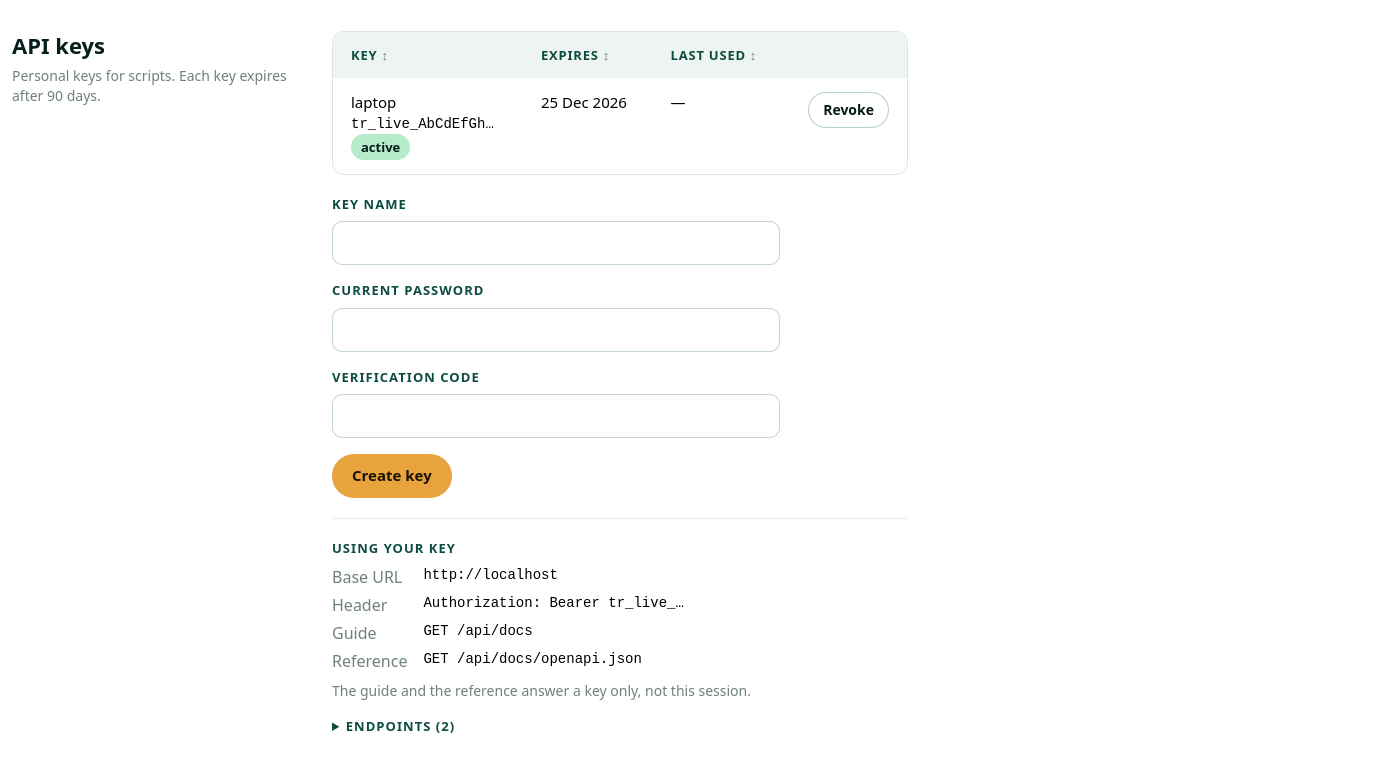
Test: RFC-82 R7 ApiKeysSection › R22 shows how to use a key and lists the endpoints, grouped and filterable
Expected: the text "Authorization: Bearer tr_live_…" is shown, [423,595,684,611]
Expected: the text "http://localhost" is shown, [423,567,558,583]
Step 1. Click the heading "Endpoints (2)" → [401, 726], box [346,717,455,735]
(page scrolled)
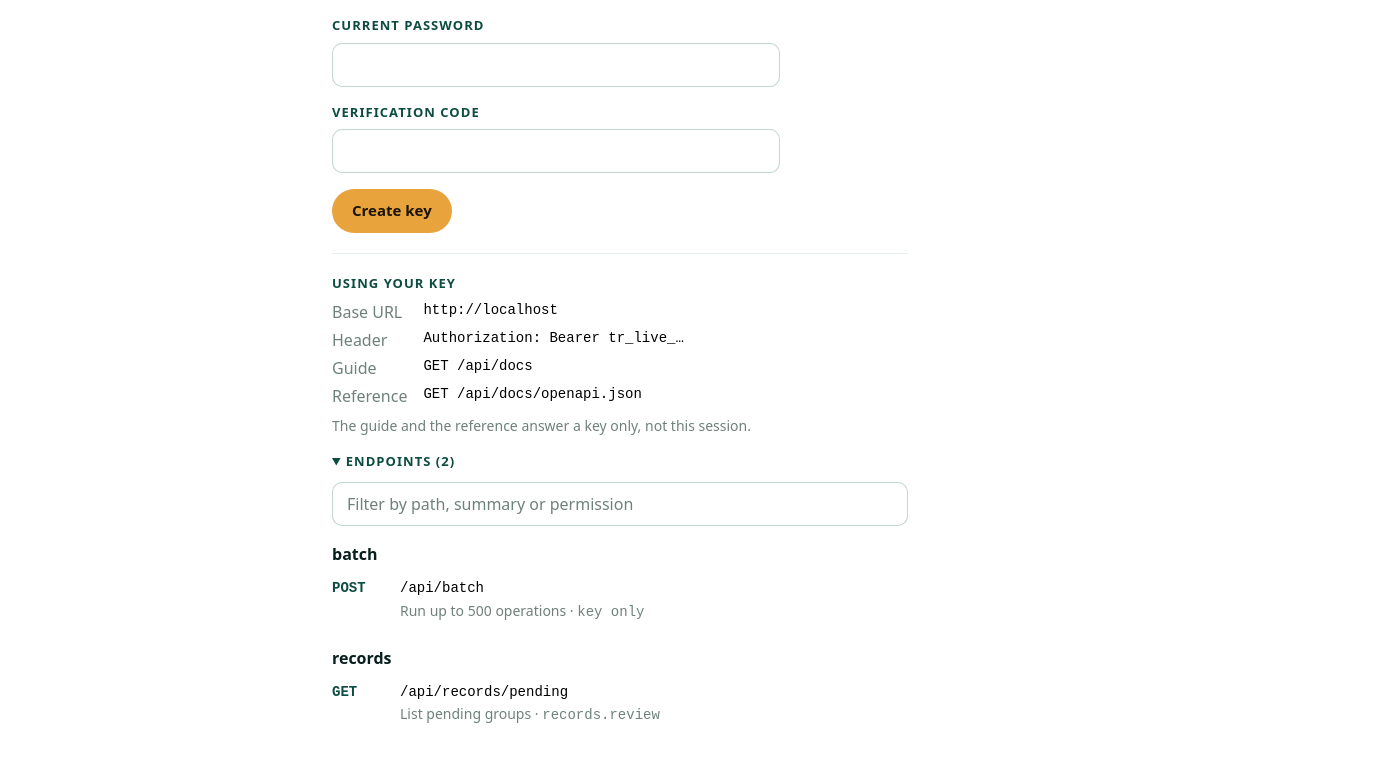
Expected: the heading "batch" is shown, [332,544,378,566]
Expected: the heading "records" is shown, [332,647,392,669]
Expected: the text "/api/records/pending" is shown, [400,682,568,702]
Step 2. Type "pending" into the field named "Filter endpoints" → [620, 504], box [332,482,908,526]
(page scrolled)
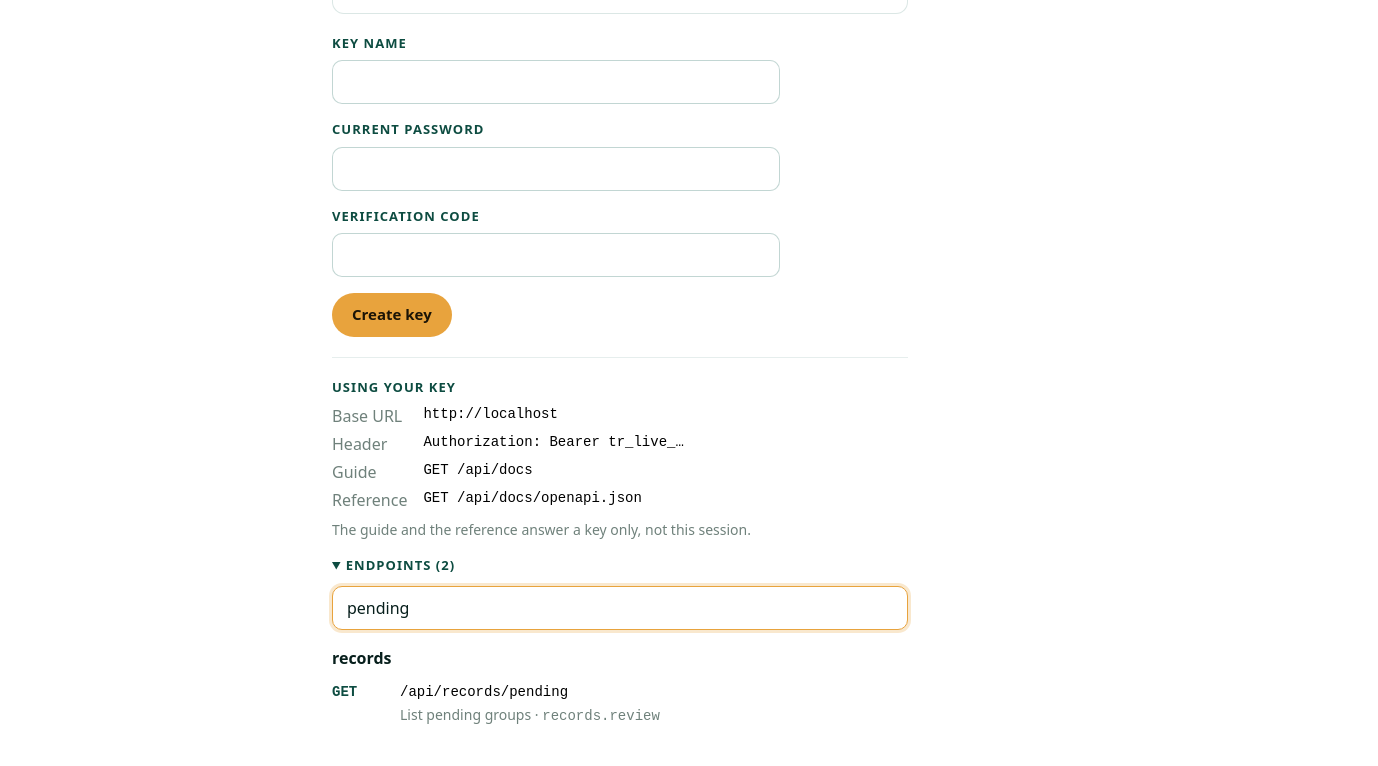
Expected: the text "/api/records/pending" is shown, [400,682,568,703]
Expected: the text "/api/batch" is gone
